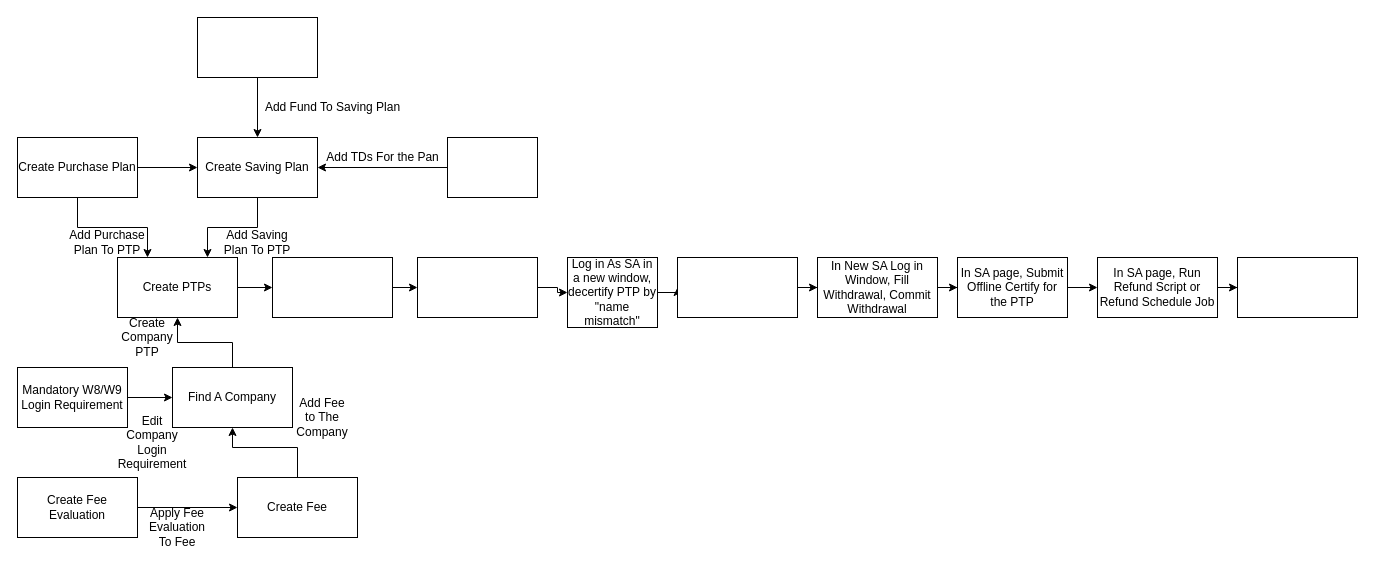
Some shapes in this 1375 by 566 pixel diagram are drawn without their labels. Here are the shapes that lost their labels. From the top down, the centre of each, then its label:
At [257,47]: "Create Fund".
At [492,167]: "Create Transaction Definitions For the Plan".
At [332,287]: "Add Holding Adjustment For PTPs".
At [477,287]: "Log in As PTP Online Certify, Keep in Activity page".
At [737,287]: "Return to PTP Login Activity Page, Submit Real Time Withdrawal as PTP".
At [1297,287]: "In SA page, Observe the Refund".
